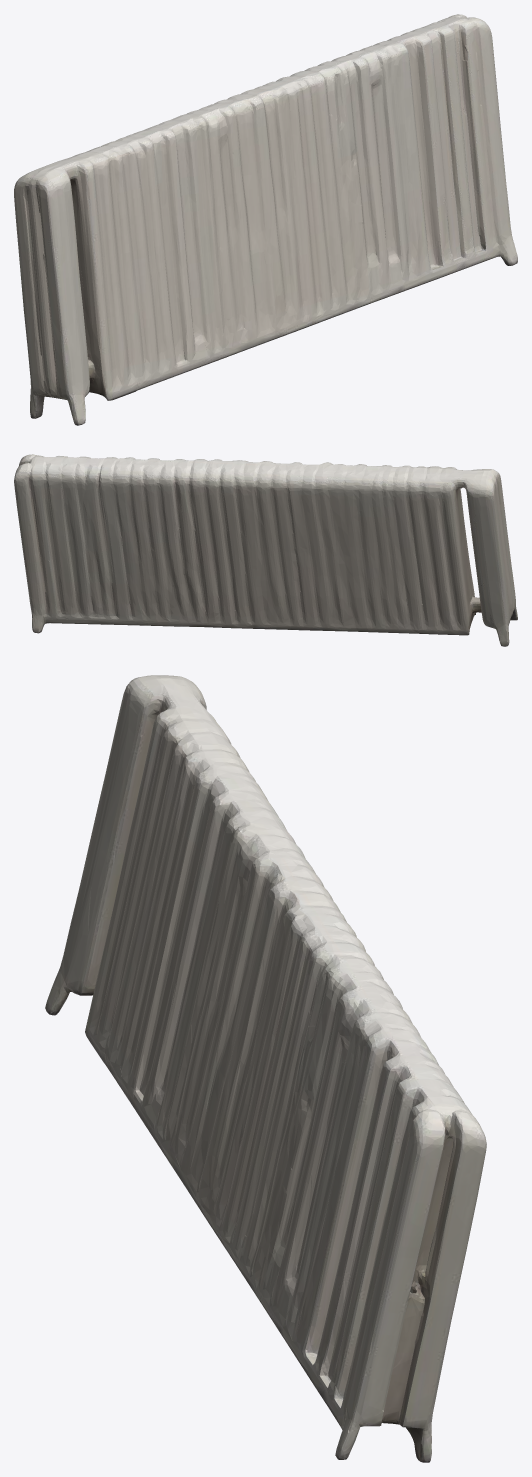
The model's file is white_radiator_under_middle_window_000.glb.
The picture shows the model from 3 angles, top to bottom: view 1: azimuth 30°, elevation 25°; view 2: azimuth 150°, elevation 25°; view 3: azimuth 270°, elevation 25°; orthographic projection. The views are drawn at different scales.
Parts seen in each view (by area): view 1: white_radiator_under_middle_window_000.obj; view 2: white_radiator_under_middle_window_000.obj; view 3: white_radiator_under_middle_window_000.obj.
Part boxes in pixels (x1=…): white_radiator_under_middle_window_000.obj: x1=14, y1=14, x2=517, y2=425; white_radiator_under_middle_window_000.obj: x1=14, y1=454, x2=517, y2=646; white_radiator_under_middle_window_000.obj: x1=45, y1=675, x2=486, y2=1462.
Size of the model in its own units: 0.5008 by 0.237 by 0.2303.
1 material, 1 textured.
